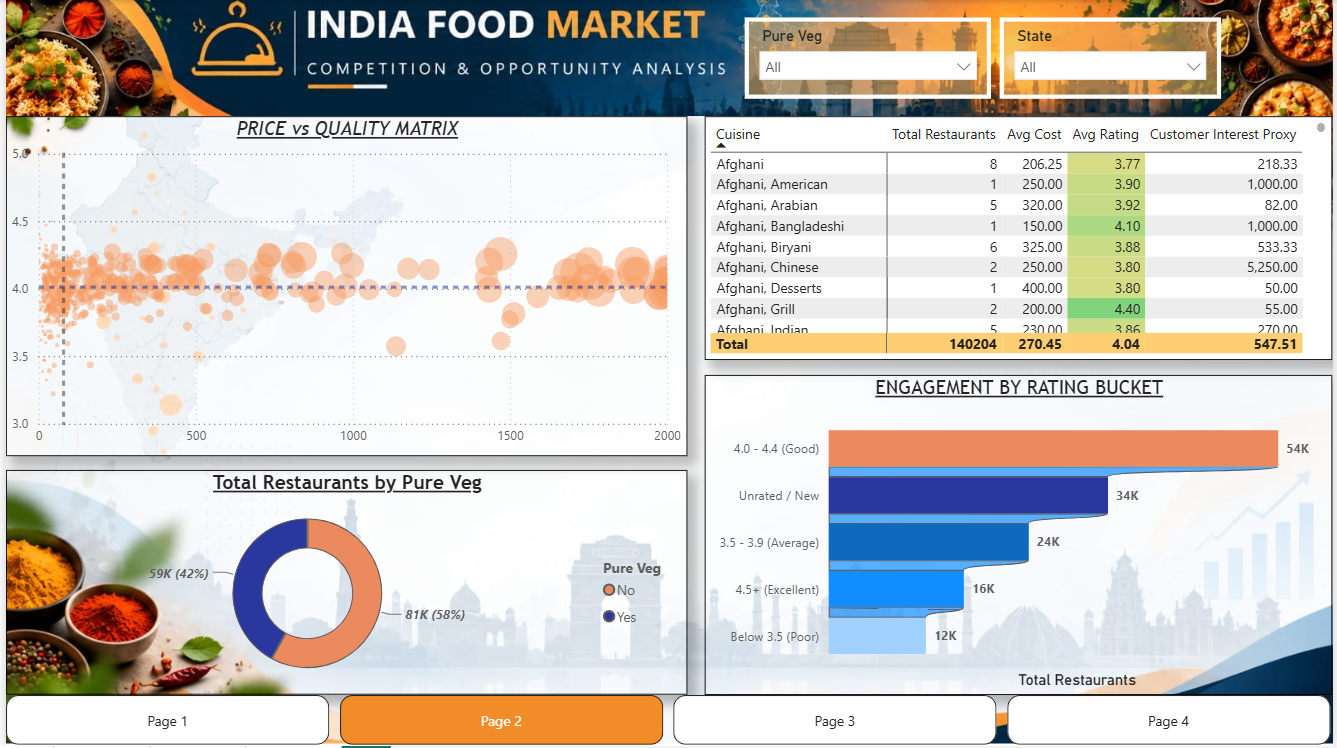

The dashboard page shown, as its layout file describes it:
{"tool":"powerbi","page":{"name":"Page 2","canvas":[1280,720],"ordinal":1},"visuals":[{"type":"scatterChart","title":" PRICE vs QUALITY MATRIX ","fields":{"Category":["PowerBI_Swiggy_Master.Location"],"X":["PowerBI_Swiggy_Master.Total Restaurants"],"Size":["Sum(PowerBI_Swiggy_Master.votes_clean)"],"Y":["PowerBI_Swiggy_Master.Avg Rating"]},"box":[0,112.2,657.5,328.2],"z":0},{"type":"barChart","title":"ENGAGEMENT BY RATING BUCKET ","fields":{"Category":["PowerBI_Swiggy_Master.Rating Bucket"],"Y":["PowerBI_Swiggy_Master.Total Restaurants"]},"box":[674.4,361.9,605.6,308.8],"z":1000},{"type":"pivotTable","fields":{"Rows":["PowerBI_Swiggy_Master.Cuisine"],"Values":["PowerBI_Swiggy_Master.Total Restaurants","PowerBI_Swiggy_Master.Avg Cost","PowerBI_Swiggy_Master.Avg Rating","PowerBI_Swiggy_Master.Customer Interest Proxy"]},"box":[674.4,112.2,605.6,235.3],"z":2000},{"type":"donutChart","fields":{"Category":["PowerBI_Swiggy_Master.Pure Veg"],"Y":["PowerBI_Swiggy_Master.Total Restaurants"]},"box":[0,453.6,657.5,217.2],"z":3000},{"type":"pageNavigator","box":[0,670.8,1280,48.3],"z":4000},{"type":"image","box":[0,0,1280,112.2],"z":5000},{"type":"slicer","fields":{"Values":["PowerBI_Swiggy_Master.Pure Veg"]},"box":[713,16.9,237.7,78.4],"z":6000},{"type":"slicer","fields":{"Values":["PowerBI_Swiggy_Master.State"]},"box":[959.1,16.9,213.5,78.4],"z":7000}]}

Visuals, with their boxes in screenshot pixels (x1, y1, x2, y2), scaled from the page's 1280x720 canvas onto the 1337x748 screenshot:
" PRICE vs QUALITY MATRIX " scatterChart: rect(0, 117, 687, 458)
"ENGAGEMENT BY RATING BUCKET " barChart: rect(704, 376, 1336, 697)
pivotTable - PowerBI_Swiggy_Master.Cuisine x PowerBI_Swiggy_Master.Total Restaurants: rect(704, 117, 1336, 361)
donutChart - PowerBI_Swiggy_Master.Pure Veg x PowerBI_Swiggy_Master.Total Restaurants: rect(0, 471, 687, 697)
pageNavigator: rect(0, 697, 1336, 747)
image: rect(0, 0, 1336, 117)
slicer - PowerBI_Swiggy_Master.Pure Veg: rect(745, 18, 993, 99)
slicer - PowerBI_Swiggy_Master.State: rect(1002, 18, 1225, 99)
